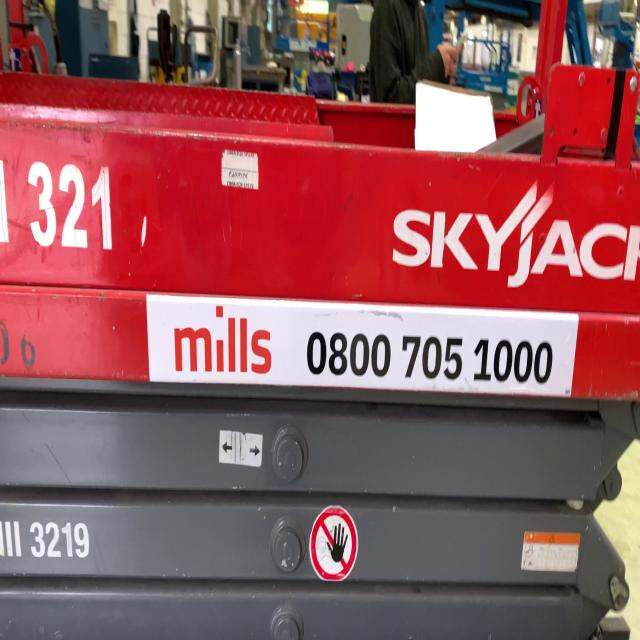Adesivo Longo: (143, 292, 580, 401)
